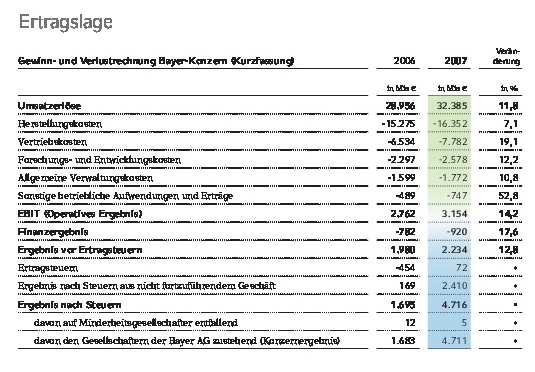table: (0, 0, 535, 372)
